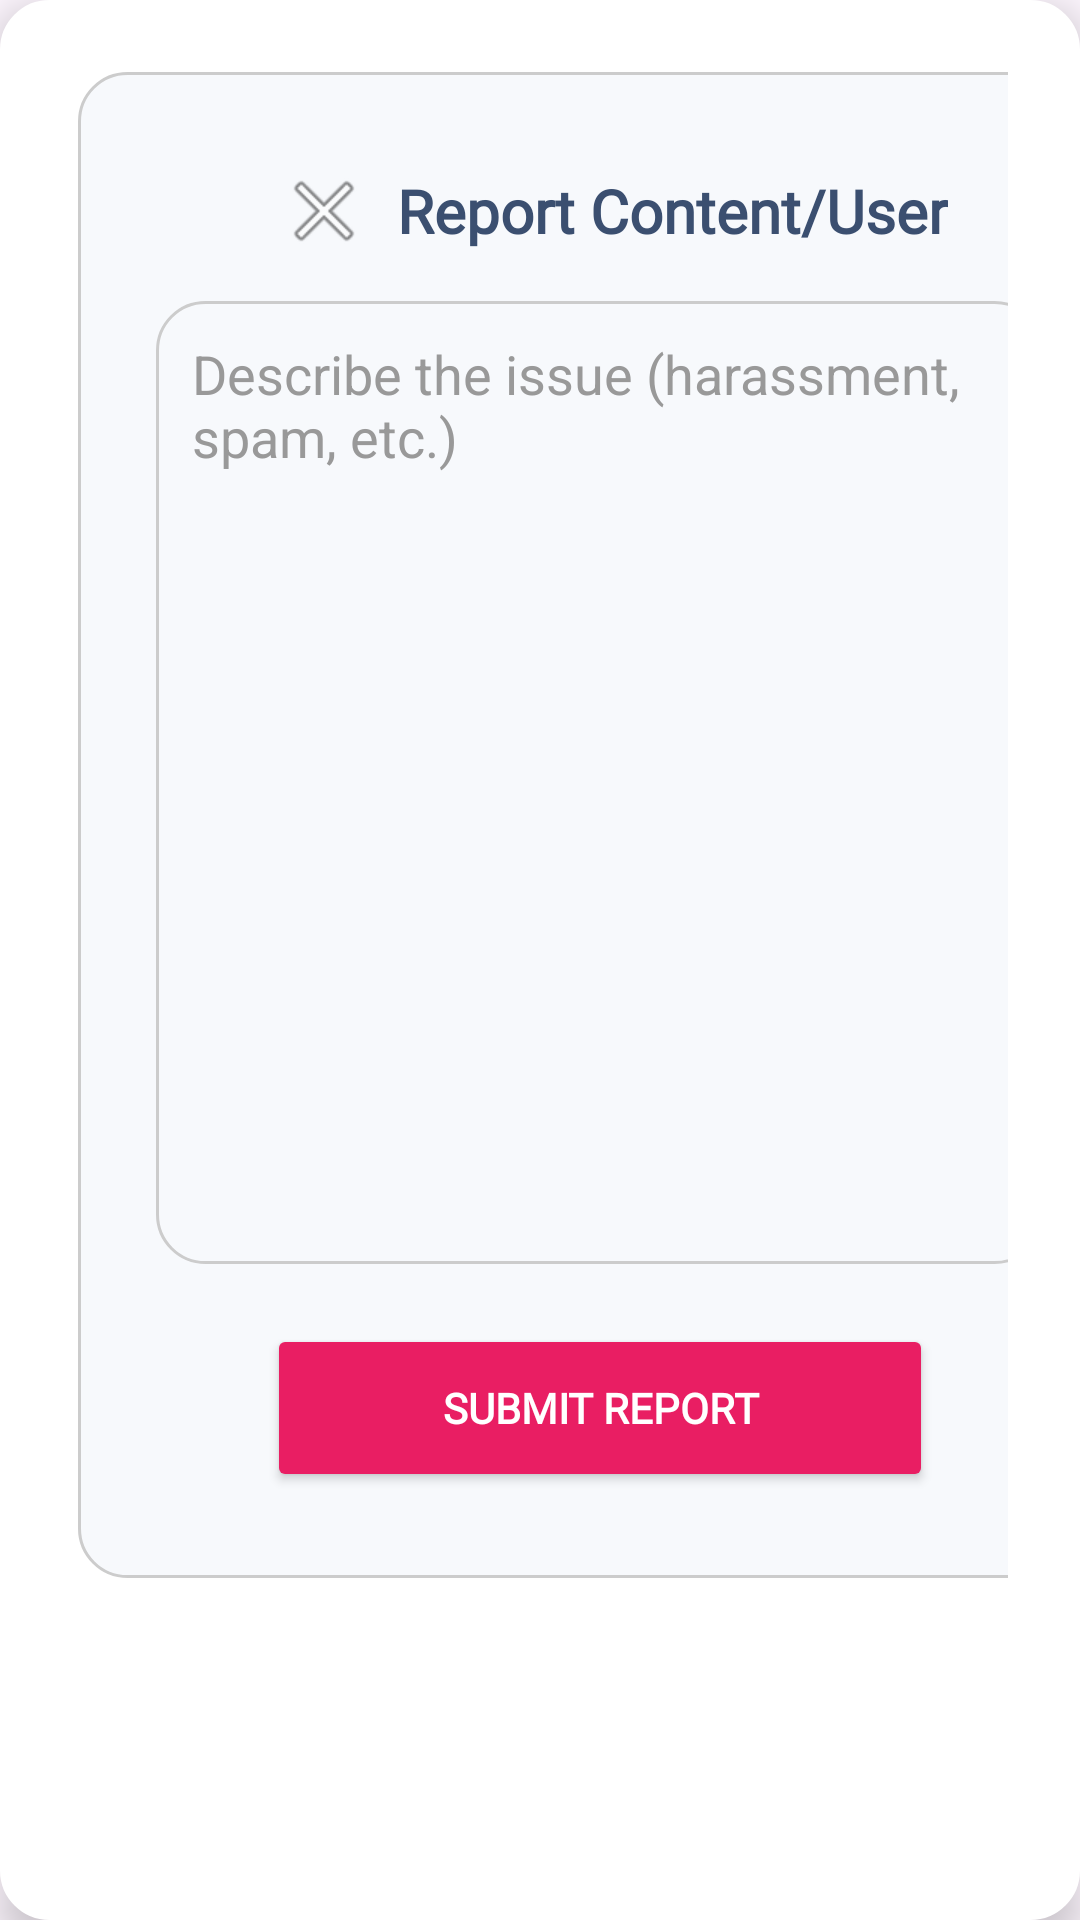

Where to tap for icons on this 1080×1920 app screen, as (x,y):
Exit: (324,211)
